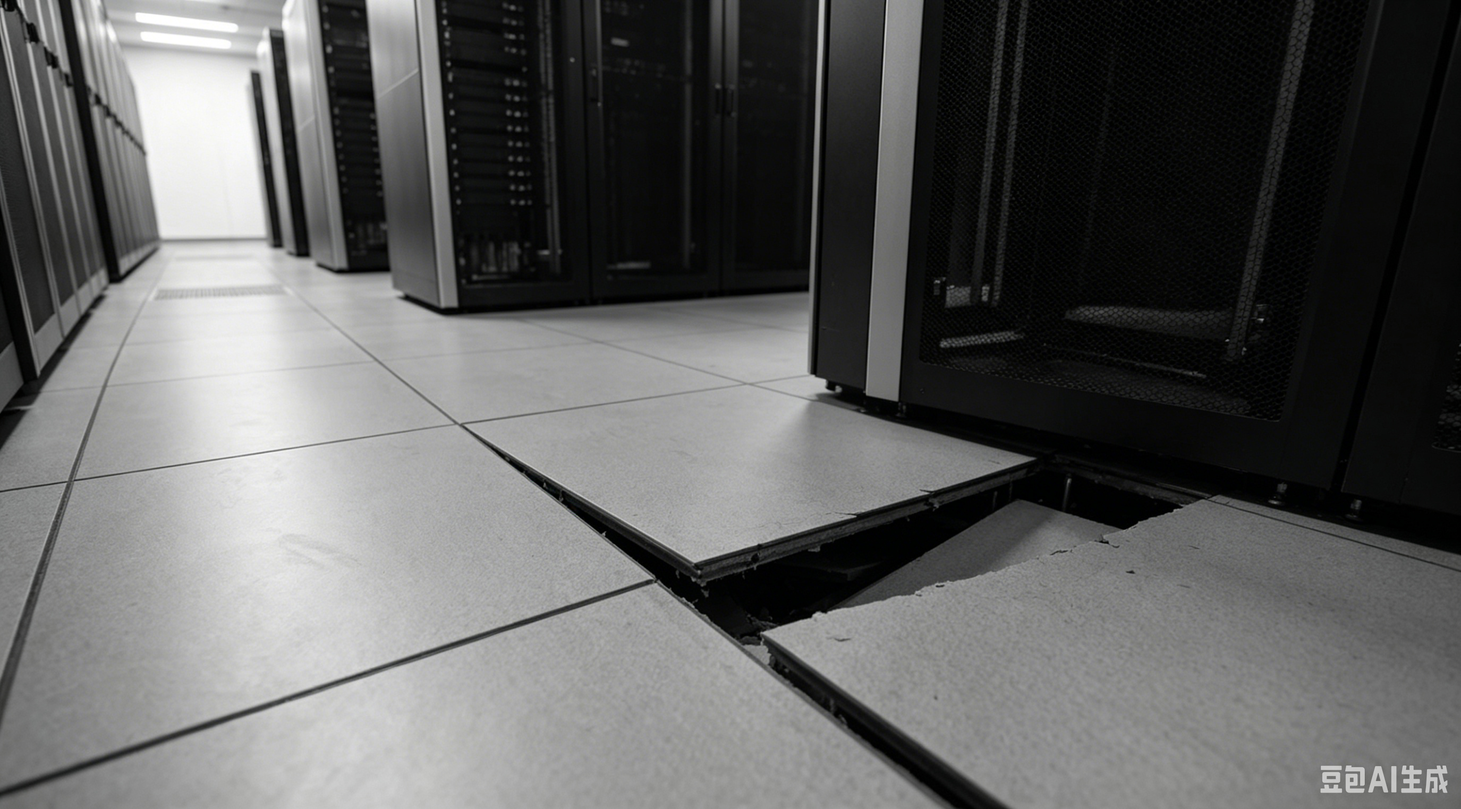floor_defect: (546, 448, 1261, 676), (751, 686, 1015, 809)
